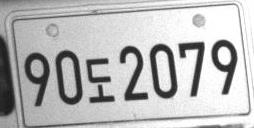0: (54, 48, 83, 106), (149, 43, 178, 99)
2: (118, 45, 149, 101)
7: (178, 41, 205, 97)
9: (210, 38, 238, 95), (23, 51, 50, 108)
도: (85, 57, 115, 103)
